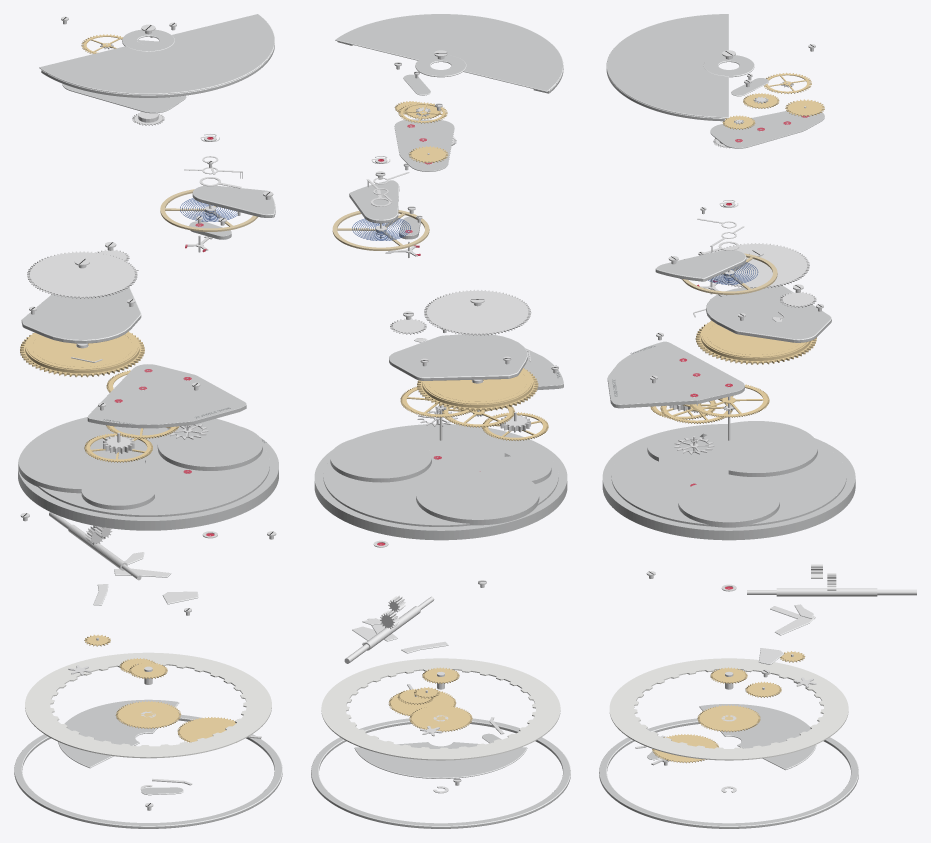
File: eta2824-2.glb
3 renders of one model, left to right at view 1: azimuth 30°, elevation 25°; view 2: azimuth 150°, elevation 25°; view 3: azimuth 270°, elevation 25°, orthographic. The views are drawn at different scales.
Parts seen in each view (by area): view 1: 1 Platine, 31-1 Masse oscillante, 36 Indicateur de quantième, 13 Pont de rouage, 16 Pont de barillet, 20 Rochet, 42 Support de cadran, 39 Pont de rouage de minuterie, 14 Couvercle de barillet, 24-1 Pont de balancier, 37 Roue des heures, 14 Barillet complet (tambour) (+7 smaller); view 2: 1 Platine, 31-1 Masse oscillante, 36 Indicateur de quantième, 16 Pont de barillet, 20 Rochet, 42 Support de cadran, 39 Pont de rouage de minuterie, 14 Couvercle de barillet, 25 Bâti du dispositif automatique, 24-1 Pont de balancier, 37 Roue des heures, 14 Barillet complet (tambour) (+10 smaller); view 3: 1 Platine, 31-1 Masse oscillante, 36 Indicateur de quantième, 13 Pont de rouage, 16 Pont de barillet, 42 Support de cadran, 39 Pont de rouage de minuterie, 20 Rochet, 25 Bâti du dispositif automatique, 14 Couvercle de barillet, 24-1 Pont de balancier, 37 Roue des heures (+5 smaller).
Part boxes in pixels (left/top/right/bottom): 1 Platine: left=18, top=417, right=278, bottom=530; 31-1 Masse oscillante: left=39, top=14, right=274, bottom=97; 36 Indicateur de quantième: left=25, top=652, right=271, bottom=758; 13 Pont de rouage: left=87, top=364, right=246, bottom=428; 16 Pont de barillet: left=21, top=287, right=141, bottom=343; 20 Rochet: left=27, top=251, right=137, bottom=298; 42 Support de cadran: left=14, top=715, right=282, bottom=828; 39 Pont de rouage de minuterie: left=58, top=699, right=179, bottom=768; 14 Couvercle de barillet: left=26, top=332, right=138, bottom=369; 24-1 Pont de balancier: left=192, top=185, right=275, bottom=217; 37 Roue des heures: left=115, top=701, right=181, bottom=728; 14 Barillet complet (tambour): left=20, top=331, right=144, bottom=377; 1 Platine: left=314, top=424, right=567, bottom=540; 31-1 Masse oscillante: left=335, top=14, right=563, bottom=93; 36 Indicateur de quantième: left=321, top=658, right=560, bottom=760; 16 Pont de barillet: left=389, top=334, right=527, bottom=380; 20 Rochet: left=424, top=289, right=531, bottom=335; 42 Support de cadran: left=311, top=718, right=570, bottom=828; 39 Pont de rouage de minuterie: left=354, top=742, right=527, bottom=778; 14 Couvercle de barillet: left=423, top=369, right=531, bottom=404; 25 Bâti du dispositif automatique: left=394, top=119, right=454, bottom=171; 24-1 Pont de balancier: left=349, top=180, right=399, bottom=223; 37 Roue des heures: left=409, top=705, right=472, bottom=732; 14 Barillet complet (tambour): left=417, top=368, right=538, bottom=411; 1 Platine: left=602, top=421, right=855, bottom=540; 31-1 Masse oscillante: left=606, top=14, right=754, bottom=121; 36 Indicateur de quantième: left=609, top=658, right=848, bottom=760; 13 Pont de rouage: left=607, top=341, right=744, bottom=408; 16 Pont de barillet: left=706, top=285, right=831, bottom=342; 42 Support de cadran: left=599, top=718, right=858, bottom=828; 39 Pont de rouage de minuterie: left=699, top=704, right=816, bottom=770; 20 Rochet: left=713, top=243, right=809, bottom=288; 25 Bâti du dispositif automatique: left=710, top=110, right=824, bottom=148; 14 Couvercle de barillet: left=702, top=321, right=807, bottom=357; 24-1 Pont de balancier: left=655, top=250, right=746, bottom=281; 37 Roue des heures: left=697, top=705, right=760, bottom=732.
Bounding box in the file's own units: 26.3 × 82.28 × 32.15.
